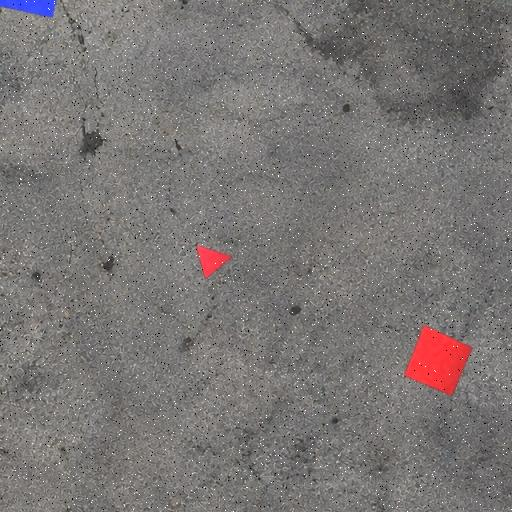RED_SQUARE: (403, 325, 473, 397)
